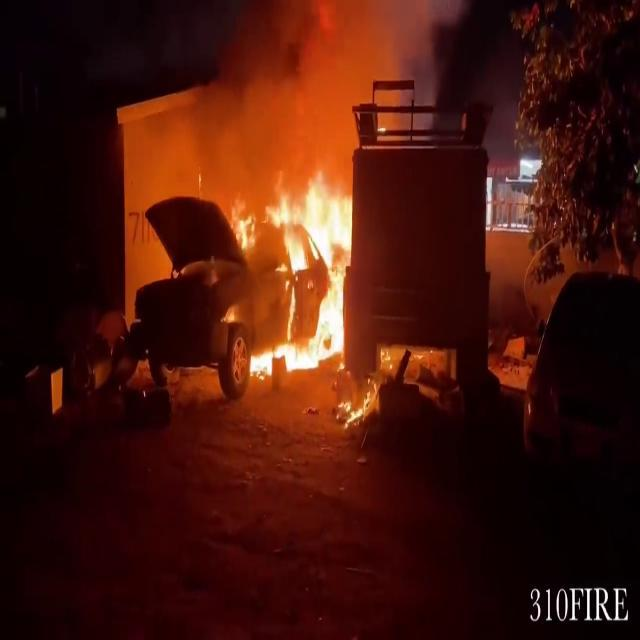Fire: (238, 162, 362, 380)
Smoke: (165, 0, 452, 175)
